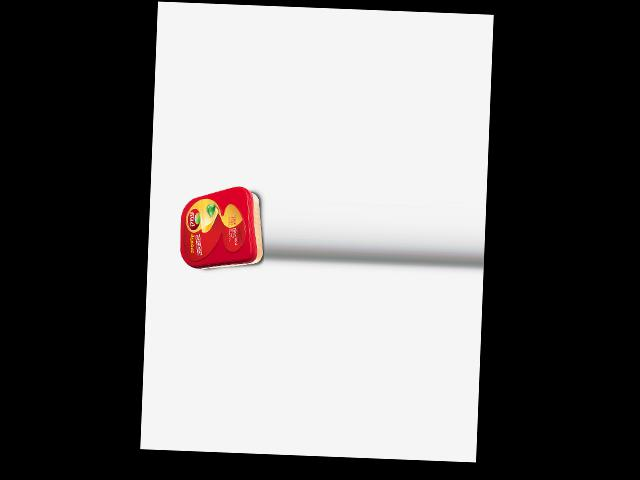cheese: (178, 184, 265, 271)
